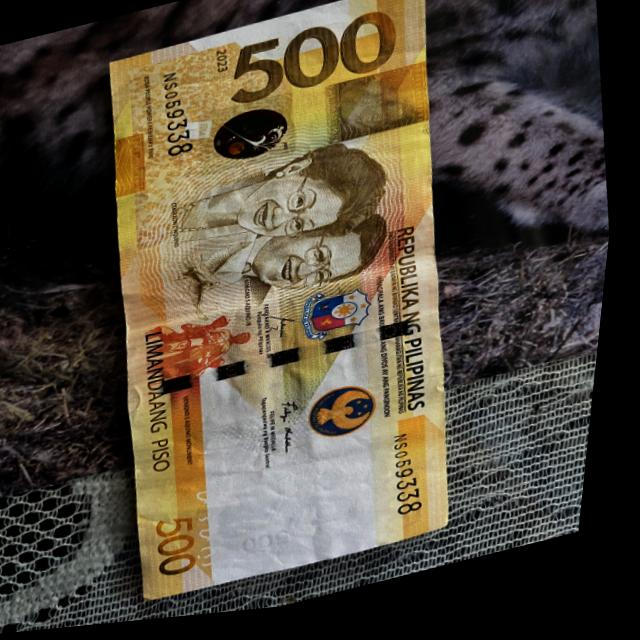concealed_value: (320, 68, 439, 154)
optically_variable_device: (190, 97, 305, 182)
security_thread: (135, 319, 450, 410)
see_through_mark: (194, 487, 248, 578)
serial_number: (385, 430, 450, 539), (156, 66, 207, 164)
value: (224, 10, 409, 115)
value_watermark: (247, 532, 307, 563)
